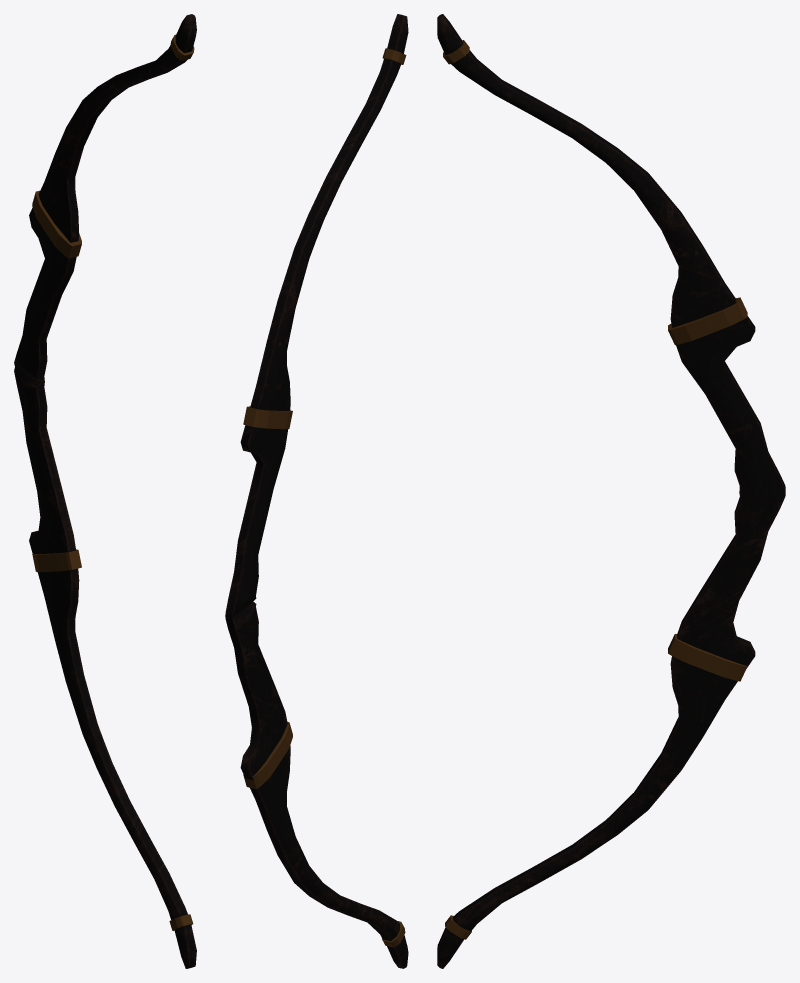
File: bow.fbx
The picture shows the model from 3 angles, left to right: view 1: azimuth 30°, elevation 25°; view 2: azimuth 150°, elevation 25°; view 3: azimuth 270°, elevation 25°; orthographic projection.
Parts seen in each view (by area): view 1: bow; view 2: bow; view 3: bow.
Part boxes in pixels (bbox=[...]): bow: bbox=[14, 14, 196, 968]; bow: bbox=[225, 14, 408, 968]; bow: bbox=[437, 14, 785, 968].
Bounding box in the file's own units: 2.06 × 96.03 × 31.83.
Materials: 1 (1 with a texture image).
